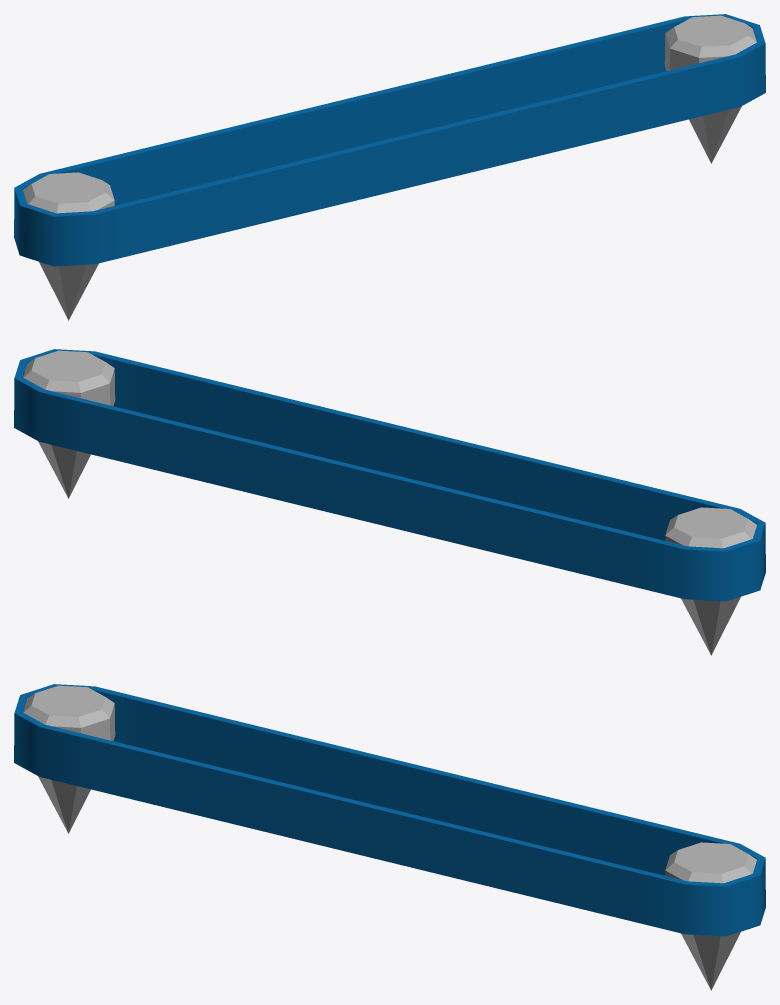
Rendered from Elastic Band Small Blue.fbx.
The picture shows the model from 3 angles, top to bottom: view 1: azimuth 30°, elevation 25°; view 2: azimuth 150°, elevation 25°; view 3: azimuth 330°, elevation 25°; orthographic projection.
Visible parts, largest first — view 1: Band.001, Pegs.001; view 2: Band.001, Pegs.001; view 3: Band.001, Pegs.001.
Part boxes in pixels (<box>): Band.001: <box>14,14,765,266</box>; Pegs.001: <box>23,15,756,320</box>; Band.001: <box>14,349,765,601</box>; Pegs.001: <box>23,350,756,655</box>; Band.001: <box>14,684,765,936</box>; Pegs.001: <box>23,685,756,990</box>.
Bounding box in the file's own units: 0.5559 × 0.0952 × 0.0727.
